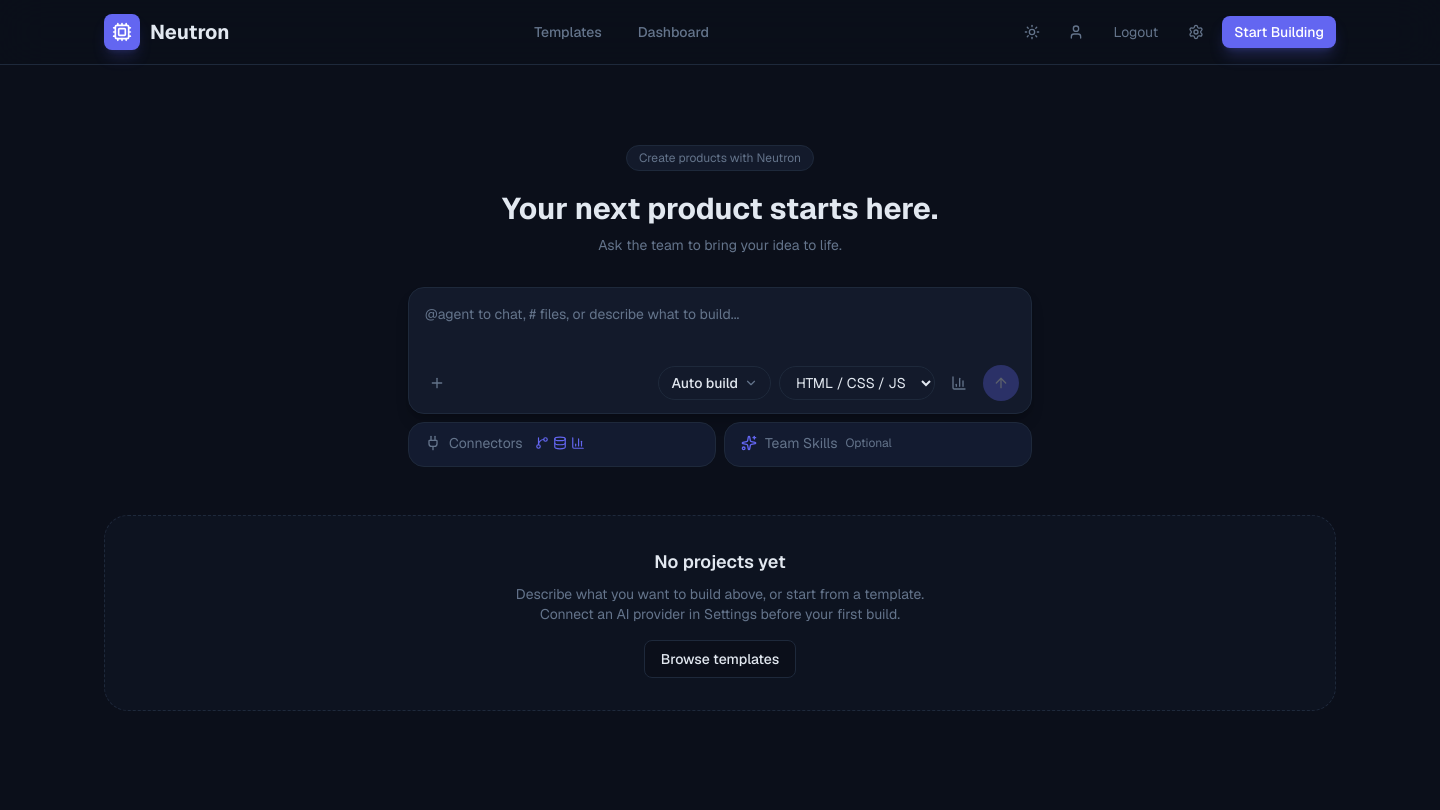
Test case: app pages › shows create error when project creation fails
The image size is (1440, 810).
In the text box with placeholder "@agent to chat, # files, or describe what to build...": (720, 327) [425,304,1015,350], type "My app"
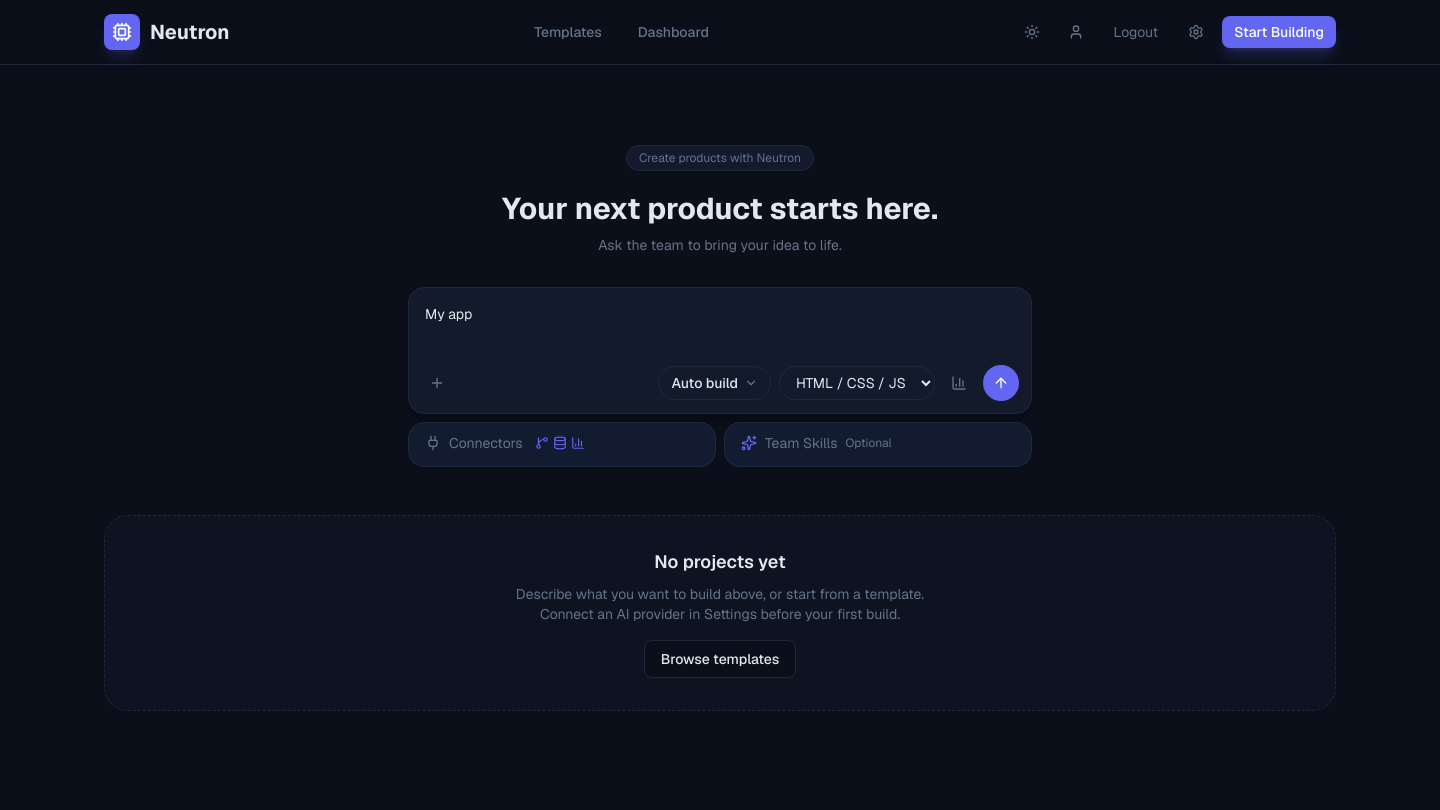
Click the button titled "Start building": (1001, 383) [983,365,1019,401]
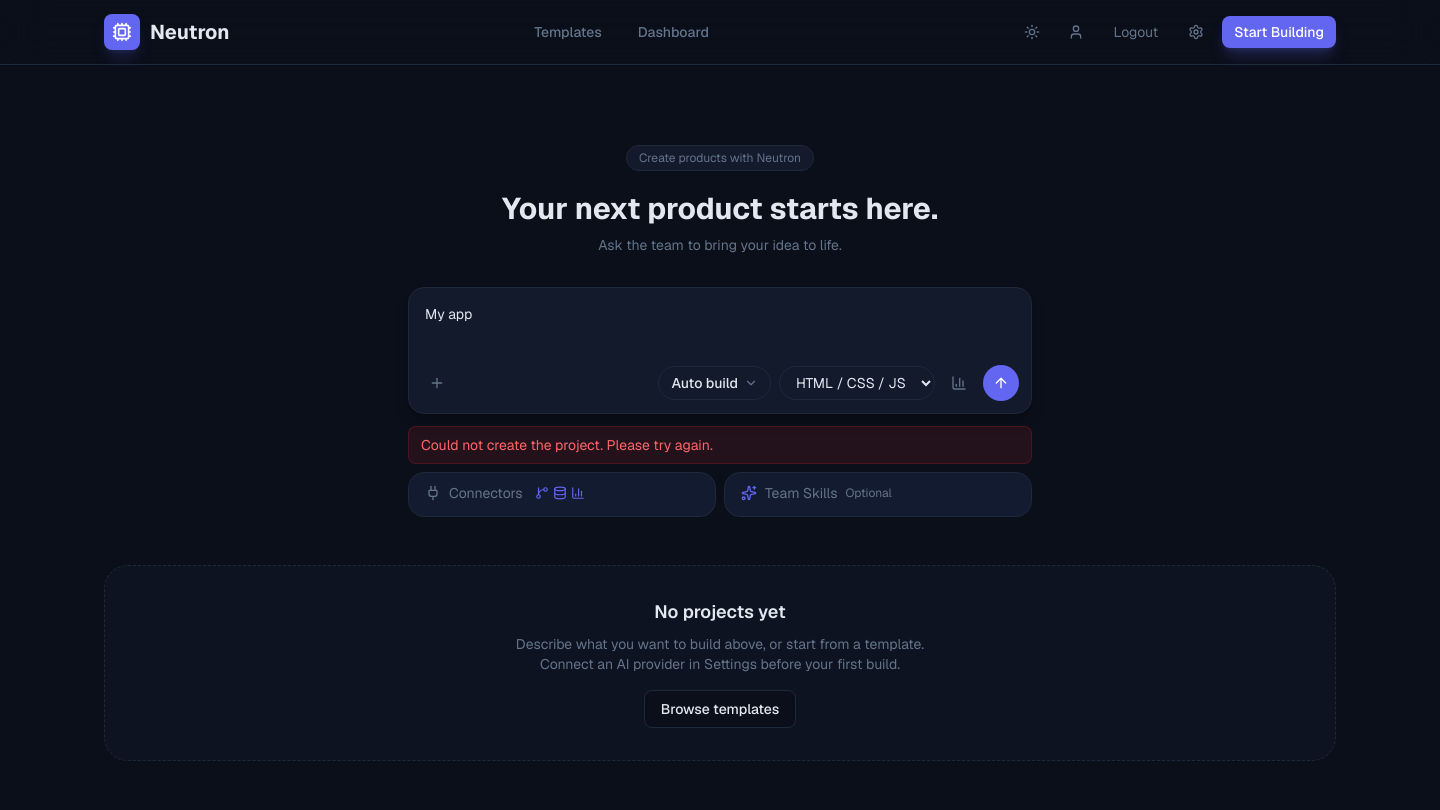
Now the text "Could not create the project. Please try again." is shown, box [408,426,1032,464]
